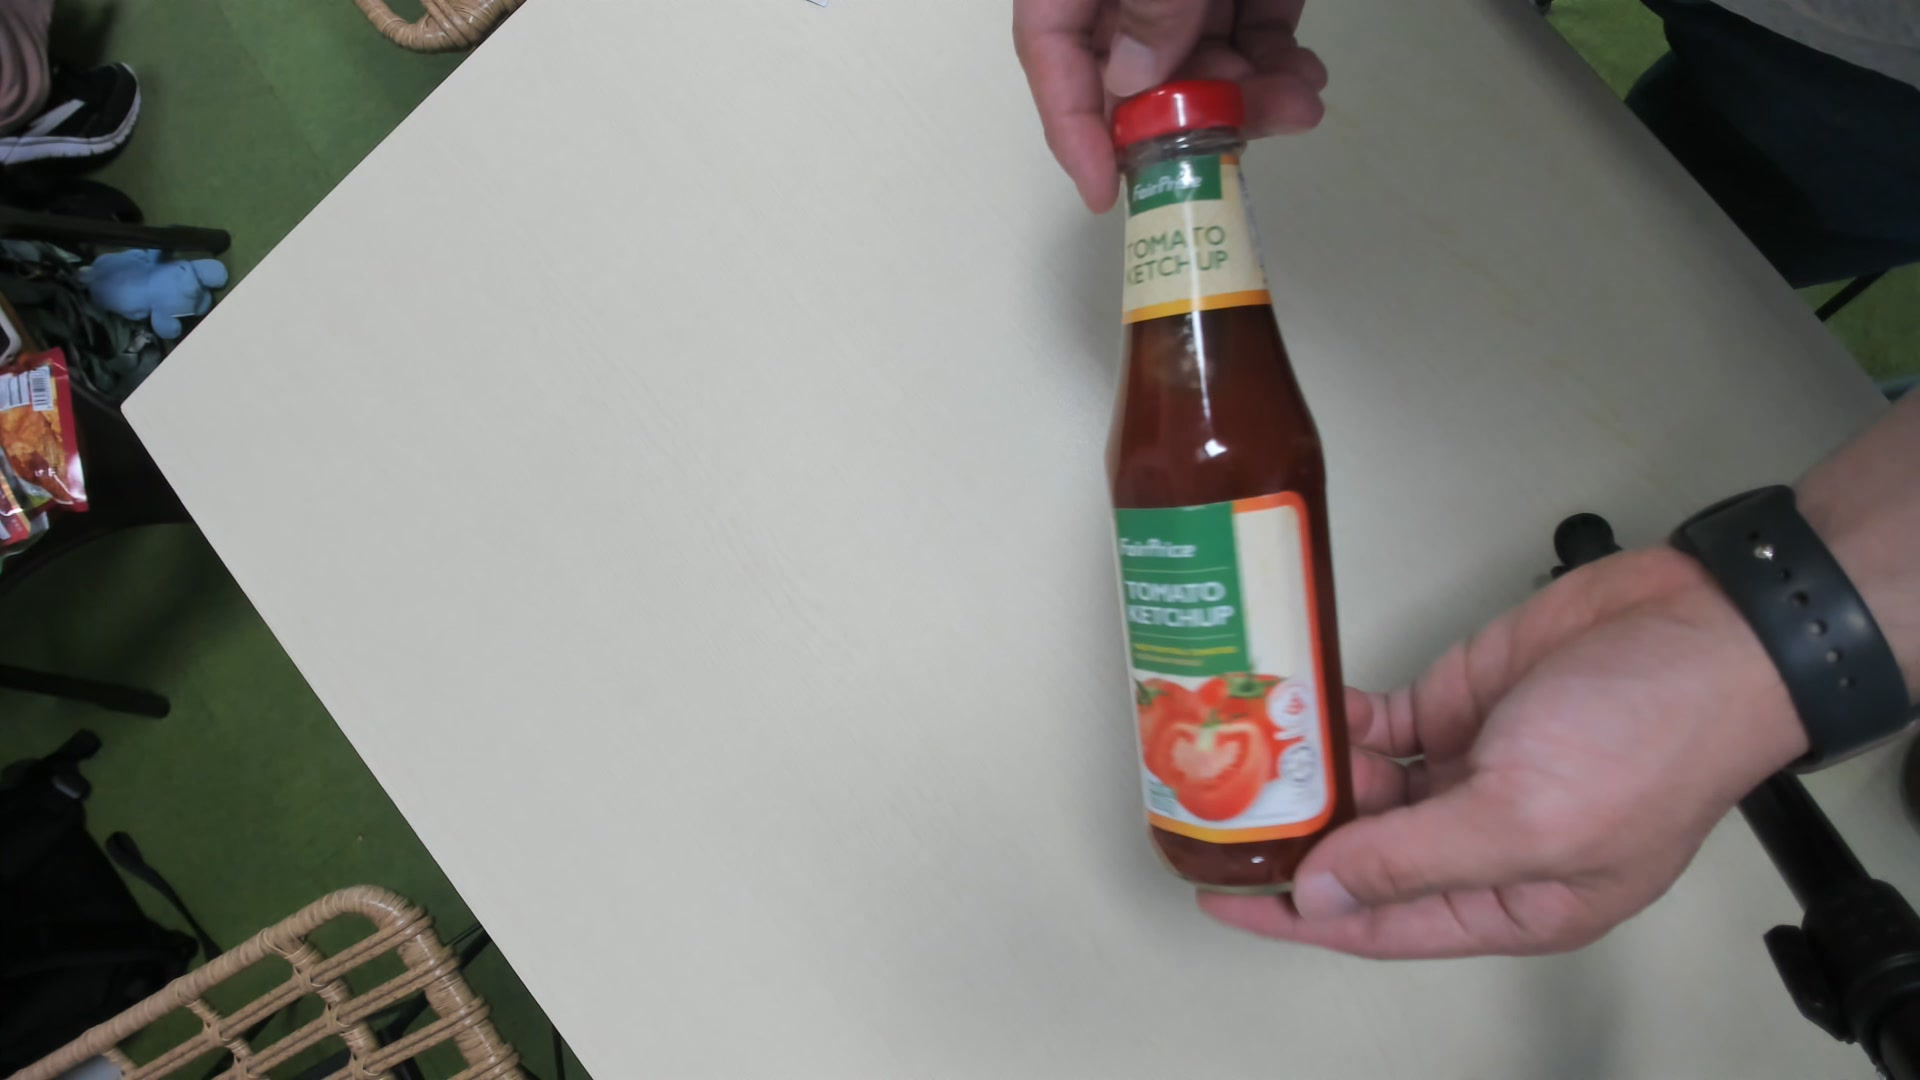KetchupChillSauce_300-399g_Halal_Healthy: (1098, 74, 1361, 895)
